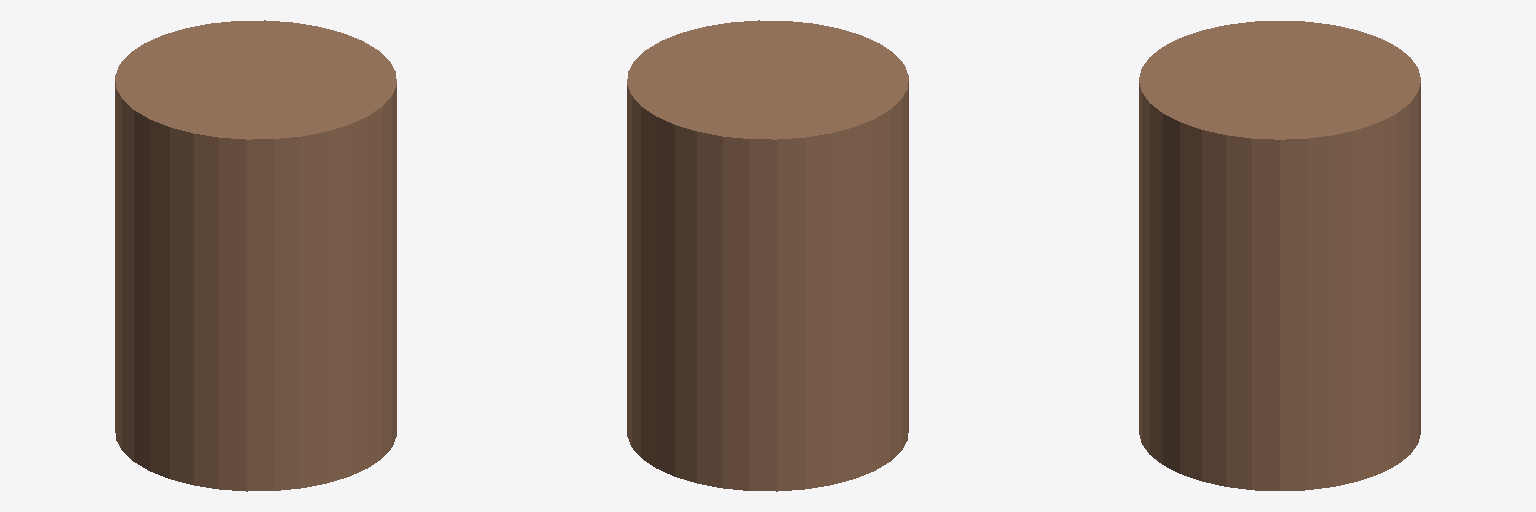
The robot description file, URDF, robot "cylinder":
<?xml version="1.0" ?>
<robot name="cylinder">
  <link name="cylinder_base_link">
    <dynamics damping="1.0" />
    <contact>
      <restitution value="0.05"/>
      <lateral_friction value="0.3"/>
      <rolling_friction value="0.01"/>
      <contact_cfm value="0.0"/>
      <contact_erp value="1.0"/>
    </contact>
    <inertial>
      <mass value="2.0"/>
      <inertia ixx="0.075" ixy="0.0" ixz="0.0" iyy="0.075" iyz="0.0" izz="0.0032"/>
      <origin rpy="0 0 0" xyz="0 0 0"/>
    </inertial>
    <visual>
      <geometry>
        <cylinder length="0.22" radius="0.08"/>
      </geometry>
      <origin rpy="0 0 0" xyz="0 0 0"/>
      <material name="wood">
          <texture filename="wooden.jpg"/>
          <color rgba="0.65 0.5 0.4 0.8"/>
      </material>
    </visual>
    <collision>
      <origin rpy="0 0 0" xyz="0 0 0"/>
      <geometry>
        <cylinder length="0.22" radius="0.08"/>
      </geometry>
    </collision>
  </link>
</robot>

--- Render facts (derived) ---
The picture shows the robot from 3 angles, left to right: view 1: azimuth 30°, elevation 25°; view 2: azimuth 150°, elevation 25°; view 3: azimuth 270°, elevation 25°; orthographic projection.
Robot: cylinder — 1 links, 0 joints (none); root link cylinder_base_link; default pose: every joint at zero.
Links seen in each view (by area): view 1: cylinder_base_link; view 2: cylinder_base_link; view 3: cylinder_base_link.
Boxes of the visible links, box(x1,y1,x2,y2) form: cylinder_base_link: box(115, 20, 396, 491); cylinder_base_link: box(627, 20, 908, 491); cylinder_base_link: box(1139, 21, 1420, 490).
Size in the robot's own frame: 0.16 by 0.16 by 0.22 metres.
Geometry: primitives only (box / cylinder / sphere), no mesh files.